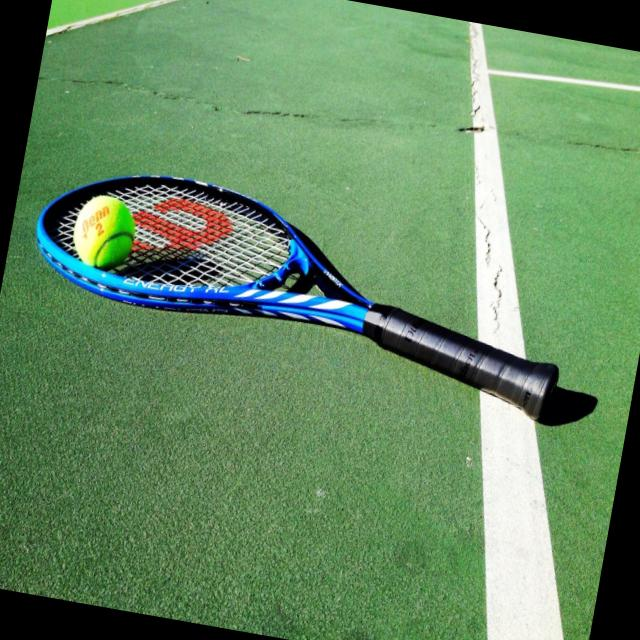Ball: (66, 190, 142, 272)
